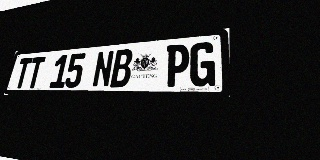1: (49, 54, 70, 88)
5: (64, 53, 86, 88)
B: (110, 49, 134, 87)
G: (189, 41, 216, 87)
N: (92, 50, 115, 88)
P: (164, 44, 190, 87)
T: (25, 56, 46, 88), (13, 57, 33, 88)
